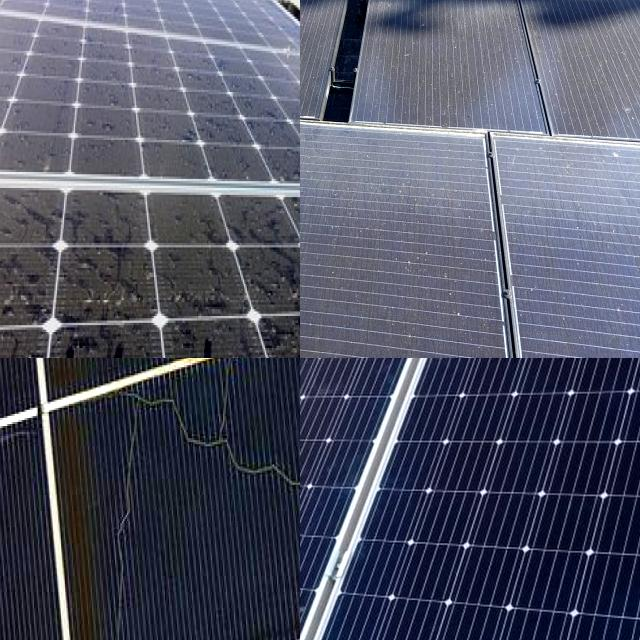crack: (300, 358, 640, 640), (300, 358, 499, 640)
dust: (300, 122, 470, 355), (510, 148, 640, 358), (0, 186, 147, 316), (8, 44, 162, 168), (158, 200, 300, 315), (381, 0, 513, 109), (531, 0, 640, 122), (192, 63, 300, 176), (300, 0, 363, 84), (57, 333, 259, 358), (300, 0, 344, 90)
shadow: (0, 358, 115, 640), (132, 358, 300, 378)
